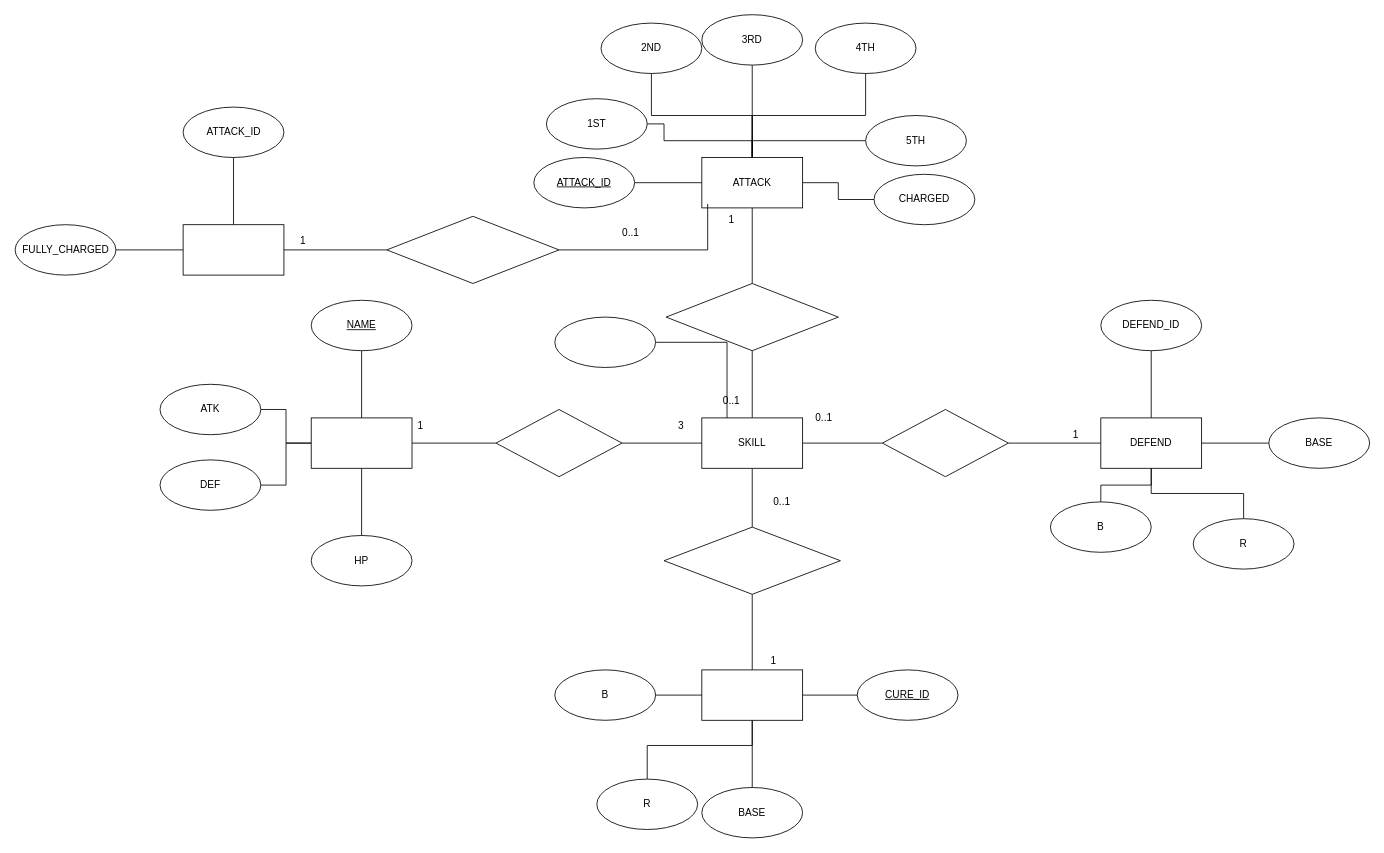
Some shapes in this 1384 by 853 pixel diagram are drawn without their labels. Here are the shapes that lost their labels. From the top down, the box of each, then its label:
(182, 224, 284, 275): BOW
(386, 215, 559, 284): IS_BOW
(665, 283, 838, 351): CAN INCREASE ATTACK
(554, 316, 656, 368): LV
(310, 417, 412, 468): Character
(495, 409, 622, 477): HAS SKILL
(882, 409, 1008, 477): CAN DEFEND
(663, 526, 840, 594): CAN CURE
(701, 669, 803, 720): CURE
